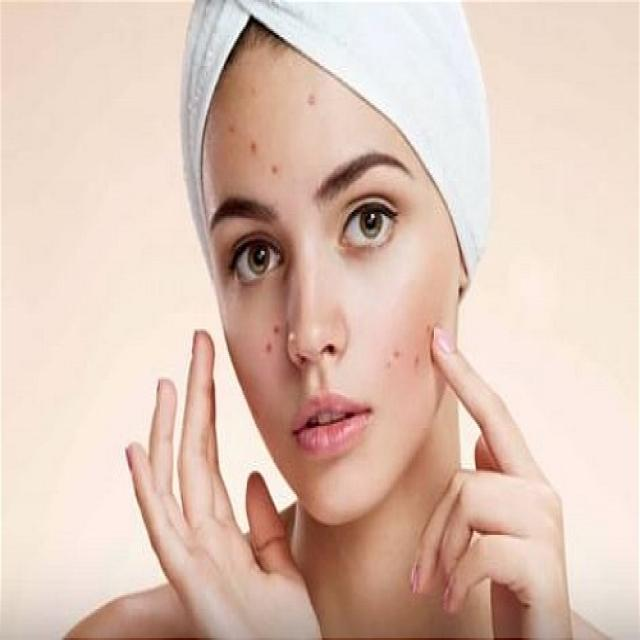Acne: (218, 94, 322, 178), (381, 325, 433, 382), (261, 314, 281, 358)
